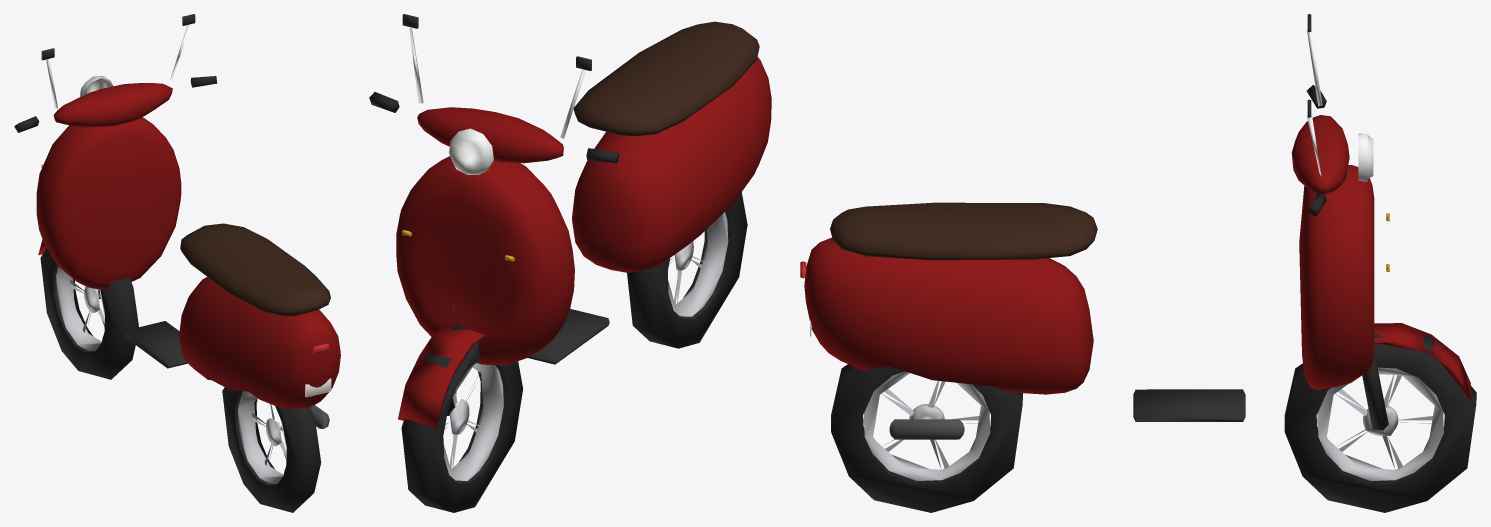
The model's file is scooter_2_lo.glb.
3 views of the same model, side by side, from view 1: azimuth 30°, elevation 25°; view 2: azimuth 150°, elevation 25°; view 3: azimuth 270°, elevation 25° (orthographic). The views are drawn at different scales.
Parts seen in each view (by area): view 1: body, wheel_1, wheel_0; view 2: body, wheel_0, wheel_1; view 3: body, wheel_0, wheel_1.
Boxes of the visible parts, x1,y1,x2,y2 form: body: (14,14,340,428); wheel_1: (222,387,321,512); wheel_0: (40,248,138,379); body: (369,14,771,428); wheel_0: (401,325,522,512); wheel_1: (627,192,747,348); body: (800,14,1471,439); wheel_0: (1284,333,1476,512); wheel_1: (831,364,1022,512).
Bounding box in the file's own units: 0.7686 × 1.32 × 1.8.
